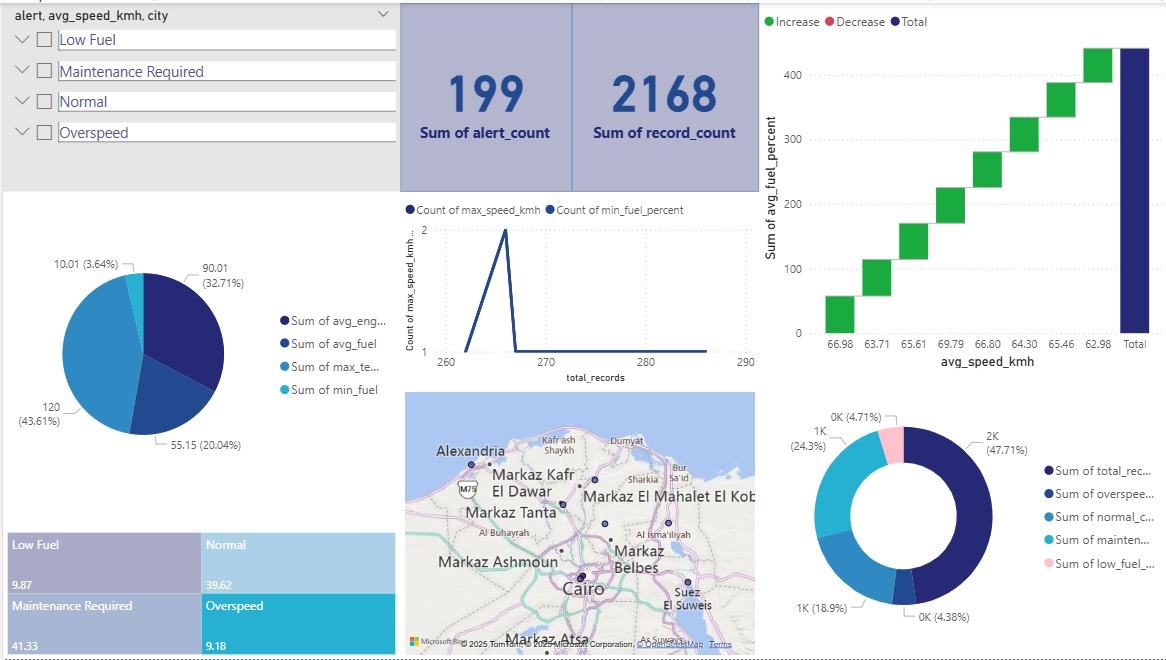

The dashboard page shown, as its layout file describes it:
{"tool":"powerbi","page":{"name":"Page 1","canvas":[1280,720],"ordinal":0},"visuals":[{"type":"treemap","fields":{"Group":["alert_distribution_gold.alert"],"Details":["alert_distribution_gold.percentage"],"Values":["CountNonNull(alert_distribution_gold.alert_count)"]},"box":[0,576,436,144],"z":0},{"type":"slicer","fields":{"Values":["city_alerts_gold.alert","city_summary_gold.avg_speed_kmh","city_alerts_gold.city"]},"box":[0,0,436.4,207.2],"z":1000},{"type":"lineChart","fields":{"Category":["city_summary_gold.total_records"],"Y":["CountNonNull(city_summary_gold.max_speed_kmh)","CountNonNull(city_summary_gold.min_fuel_percent)"]},"box":[436.4,207.2,393.8,215.4],"z":2000},{"type":"map","fields":{"Category":["city_alerts_gold.city"]},"box":[436.4,422.6,393.8,297.8],"z":3000},{"type":"donutChart","fields":{"Y":["Sum(vehicle_performance_gold.total_records)","Sum(vehicle_performance_gold.overspeed_count)","Sum(vehicle_performance_gold.normal_count)","Sum(vehicle_performance_gold.maintenance_count)","Sum(vehicle_performance_gold.low_fuel_count)"]},"box":[830.2,406.2,450.1,314.2],"z":4000},{"type":"waterfallChart","fields":{"Category":["vehicle_performance_gold.avg_speed_kmh"],"Y":["Sum(vehicle_performance_gold.avg_fuel_percent)"]},"box":[830.2,0,450.1,406.2],"z":5000},{"type":"card","fields":{"Values":["Sum(status_gold.record_count)"]},"box":[624.4,0,205.8,207.2],"z":6000},{"type":"pieChart","fields":{"Y":["Sum(executive_summary_gold.avg_engine_temp)","Sum(executive_summary_gold.avg_fuel)","Sum(executive_summary_gold.max_temp)","Sum(executive_summary_gold.min_fuel)"]},"box":[0,207.2,436.4,356.8],"z":7000},{"type":"card","fields":{"Values":["Sum(city_alerts_gold.alert_count)"]},"box":[436.4,0,188,207.2],"z":8000}]}

Visuals, with their boxes in screenshot pixels (x1, y1, x2, y2), scaled from the page's 1280x720 canvas onto the 1166x660 screenshot:
treemap - alert_distribution_gold.alert x alert_distribution_gold.percentage: (left=0, top=528, right=397, bottom=659)
slicer - city_alerts_gold.alert x city_summary_gold.avg_speed_kmh: (left=0, top=0, right=398, bottom=190)
lineChart - city_summary_gold.total_records x CountNonNull(city_summary_gold.max_speed_kmh): (left=398, top=190, right=756, bottom=387)
map - city_alerts_gold.city: (left=398, top=387, right=756, bottom=659)
donutChart - Sum(vehicle_performance_gold.total_records) x Sum(vehicle_performance_gold.overspeed_count): (left=756, top=372, right=1165, bottom=659)
waterfallChart - vehicle_performance_gold.avg_speed_kmh x Sum(vehicle_performance_gold.avg_fuel_percent): (left=756, top=0, right=1165, bottom=372)
card - Sum(status_gold.record_count): (left=569, top=0, right=756, bottom=190)
pieChart - Sum(executive_summary_gold.avg_engine_temp) x Sum(executive_summary_gold.avg_fuel): (left=0, top=190, right=398, bottom=517)
card - Sum(city_alerts_gold.alert_count): (left=398, top=0, right=569, bottom=190)
